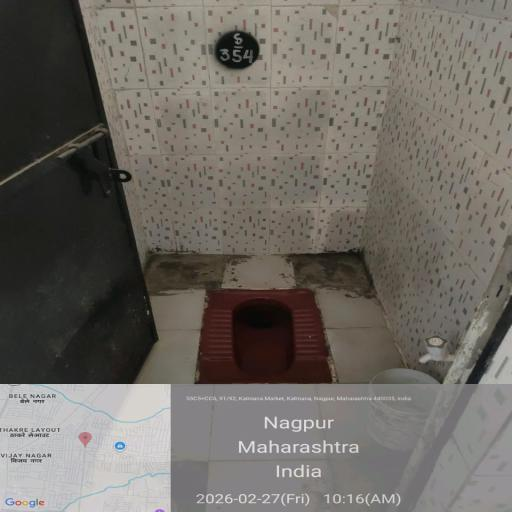clean_floor: (96, 0, 511, 237), (0, 92, 138, 367)
clean_indian: (194, 286, 337, 389)
partial_dirty_floor: (135, 245, 398, 294), (317, 314, 402, 370)
